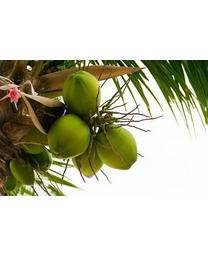coconut: (93, 117, 138, 170), (62, 71, 101, 118), (71, 139, 103, 176), (18, 145, 52, 170), (8, 158, 36, 186)
